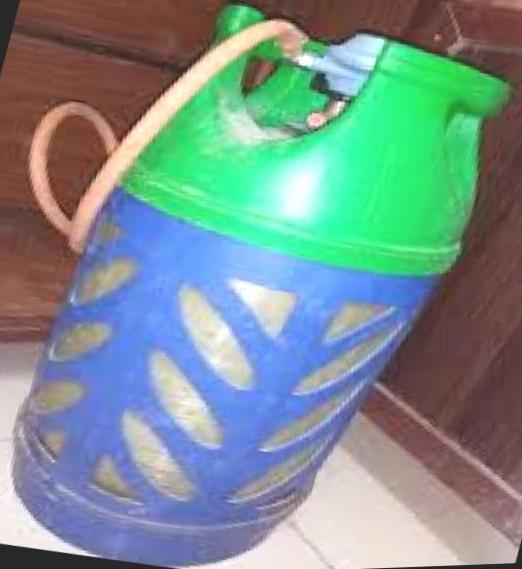cylinder: (1, 1, 522, 569)
